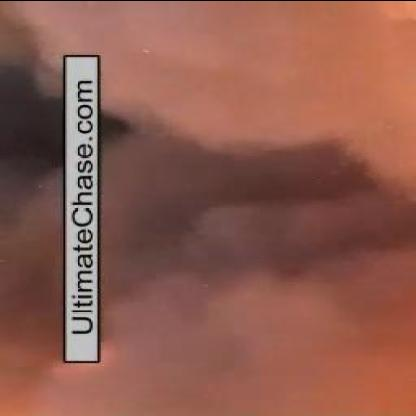-: (107, 15, 364, 400), (2, 40, 60, 381)
